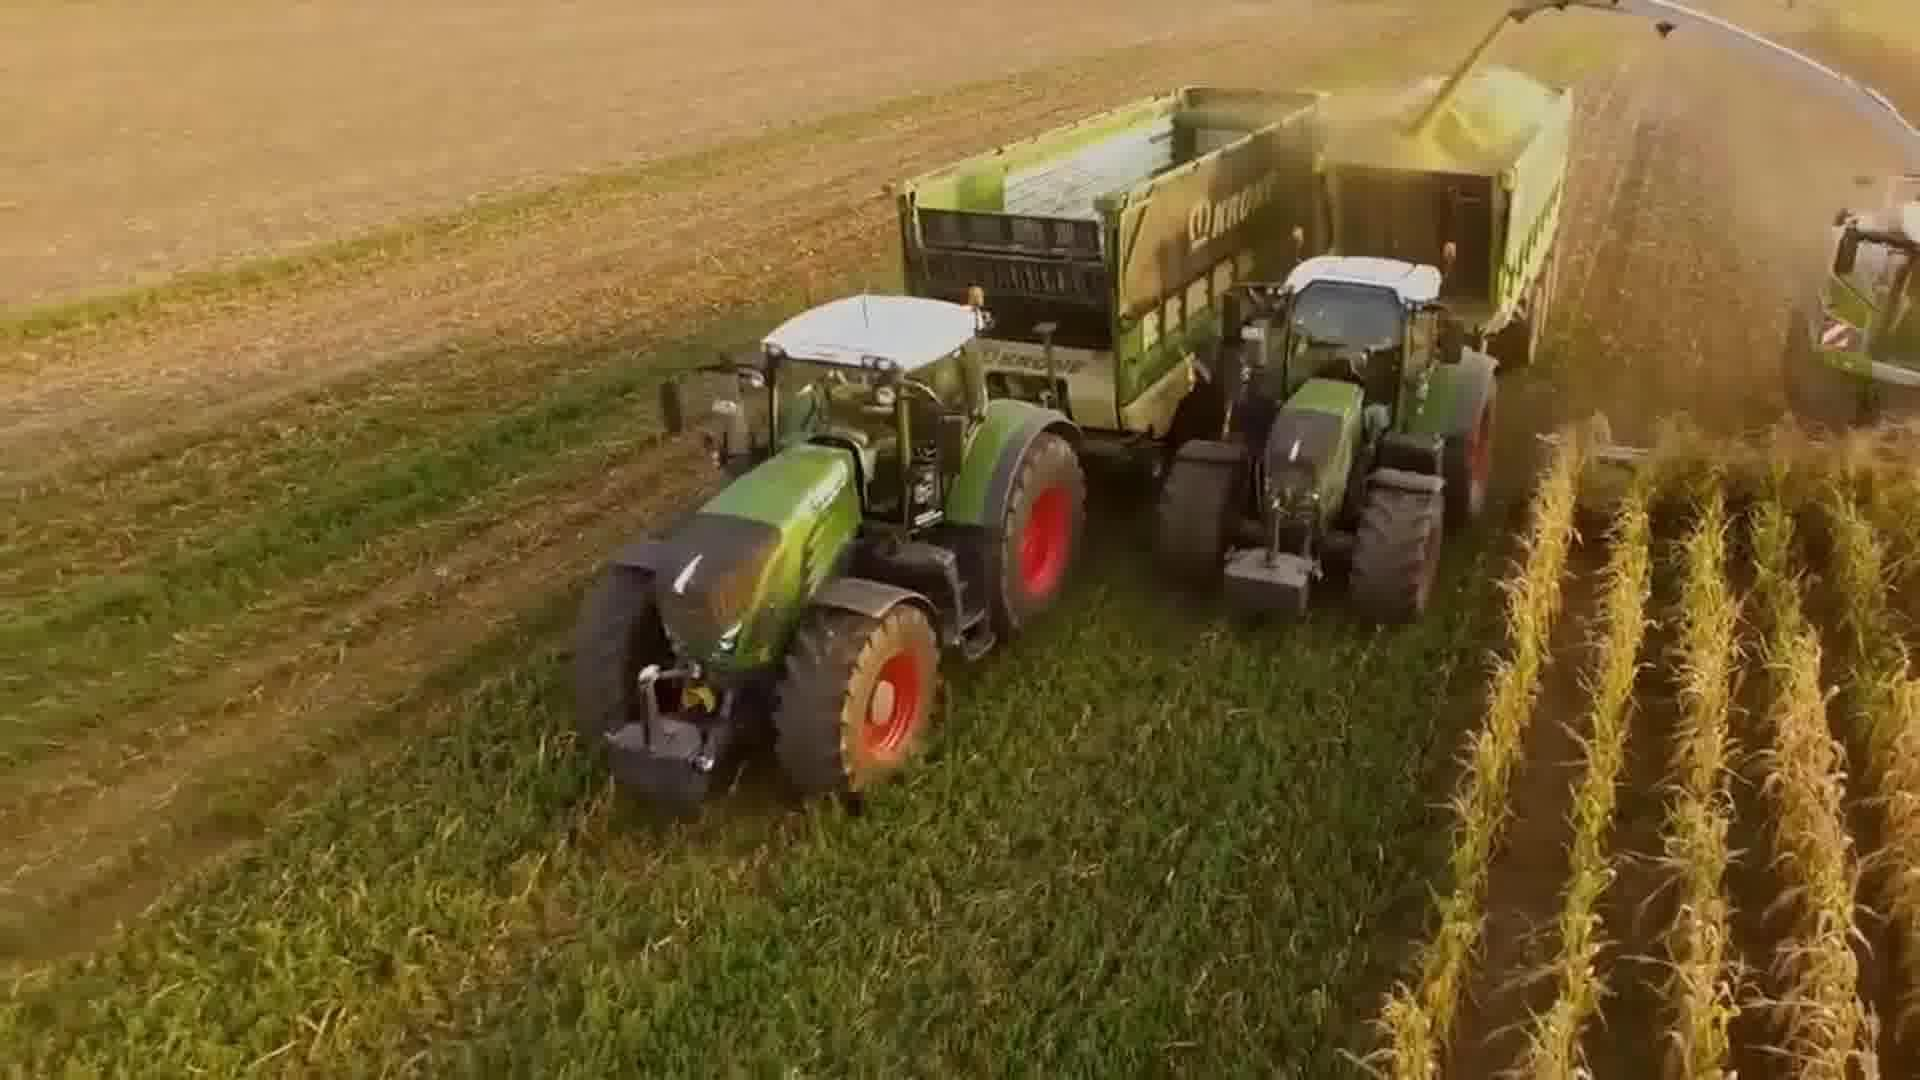combine harvester: (1513, 0, 1920, 497)
tractor: (555, 281, 1105, 823), (1149, 227, 1513, 634)
trailer: (889, 67, 1336, 450), (1279, 62, 1590, 348)
